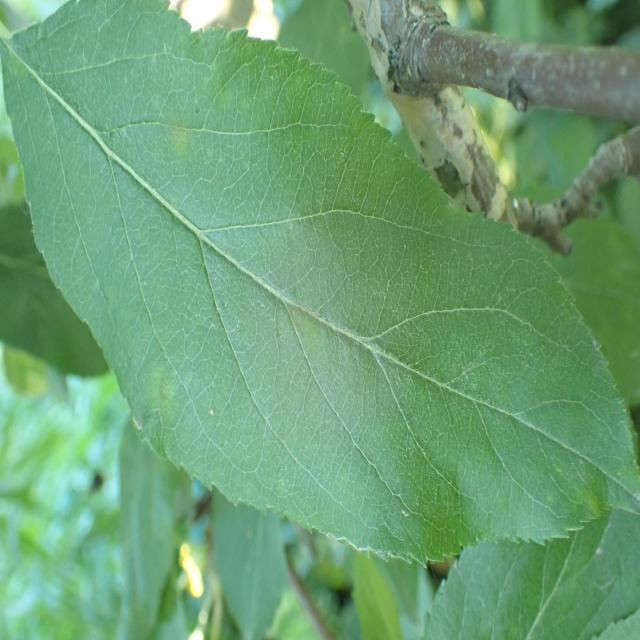scab: (70, 70, 525, 524)
